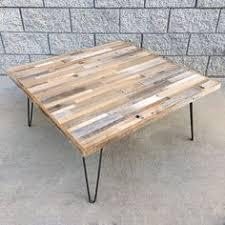wood: (5, 37, 221, 156)
